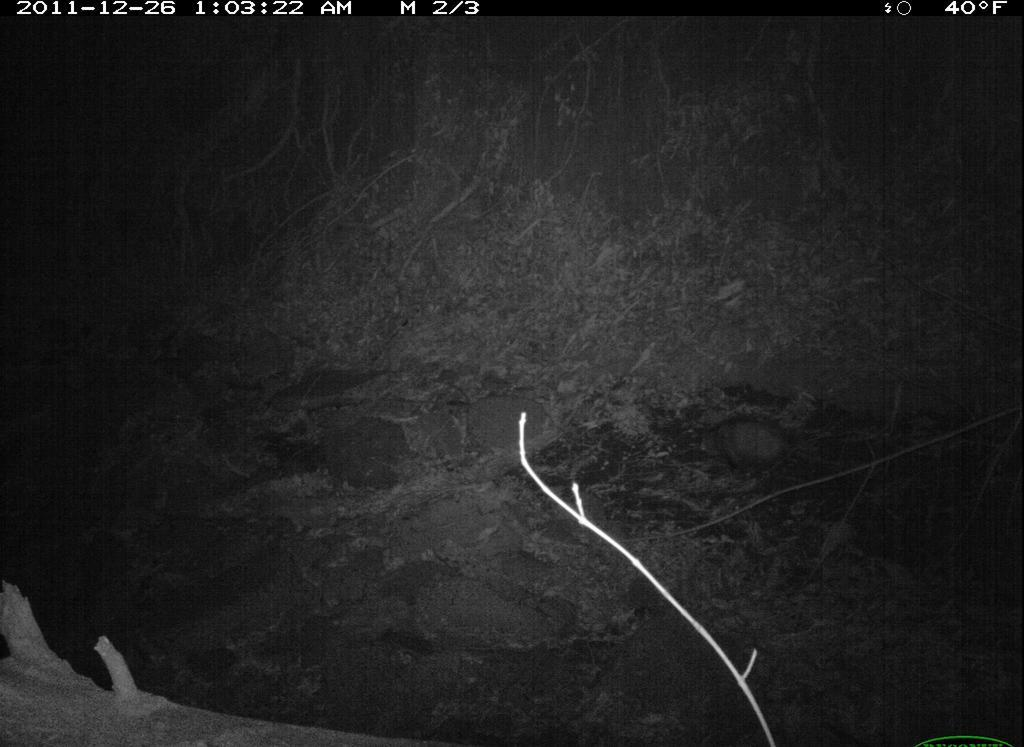opossum: (669, 404, 813, 492)
